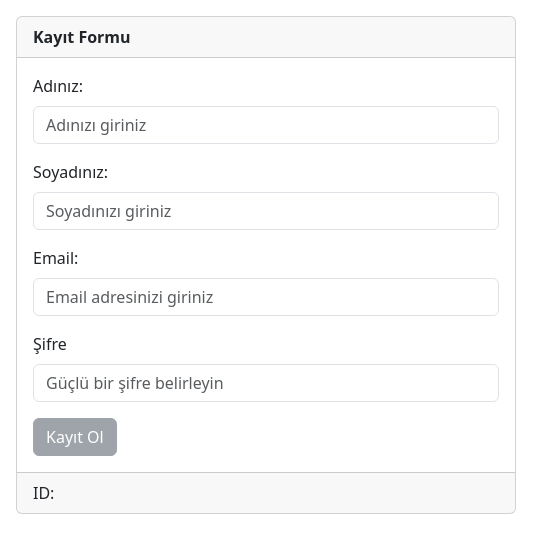
Test: Register Page › Error Messages › Surname input throws error for 2 chars
Step 1. Type "em" into the field with test id "soyad-input" → [266, 211], box [33, 192, 499, 230]
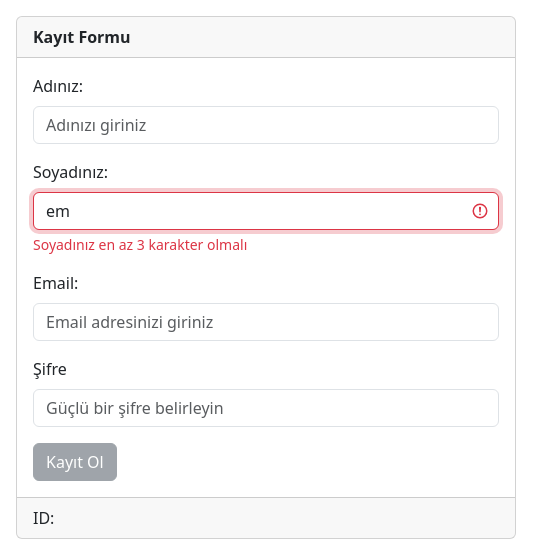
expect the text "Soyadınız en az 3 karakter olmalı" is shown: met, box [33, 235, 247, 254]
